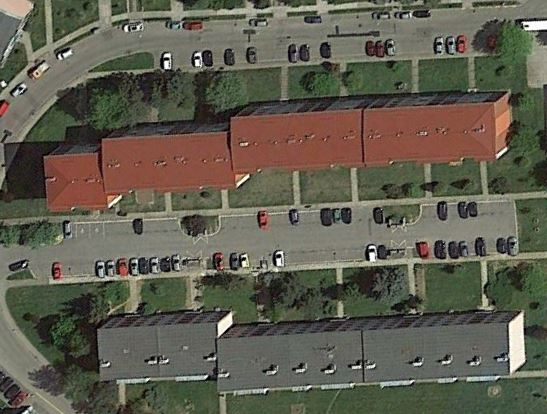block of flats: (42, 86, 520, 220), (95, 307, 533, 395)
